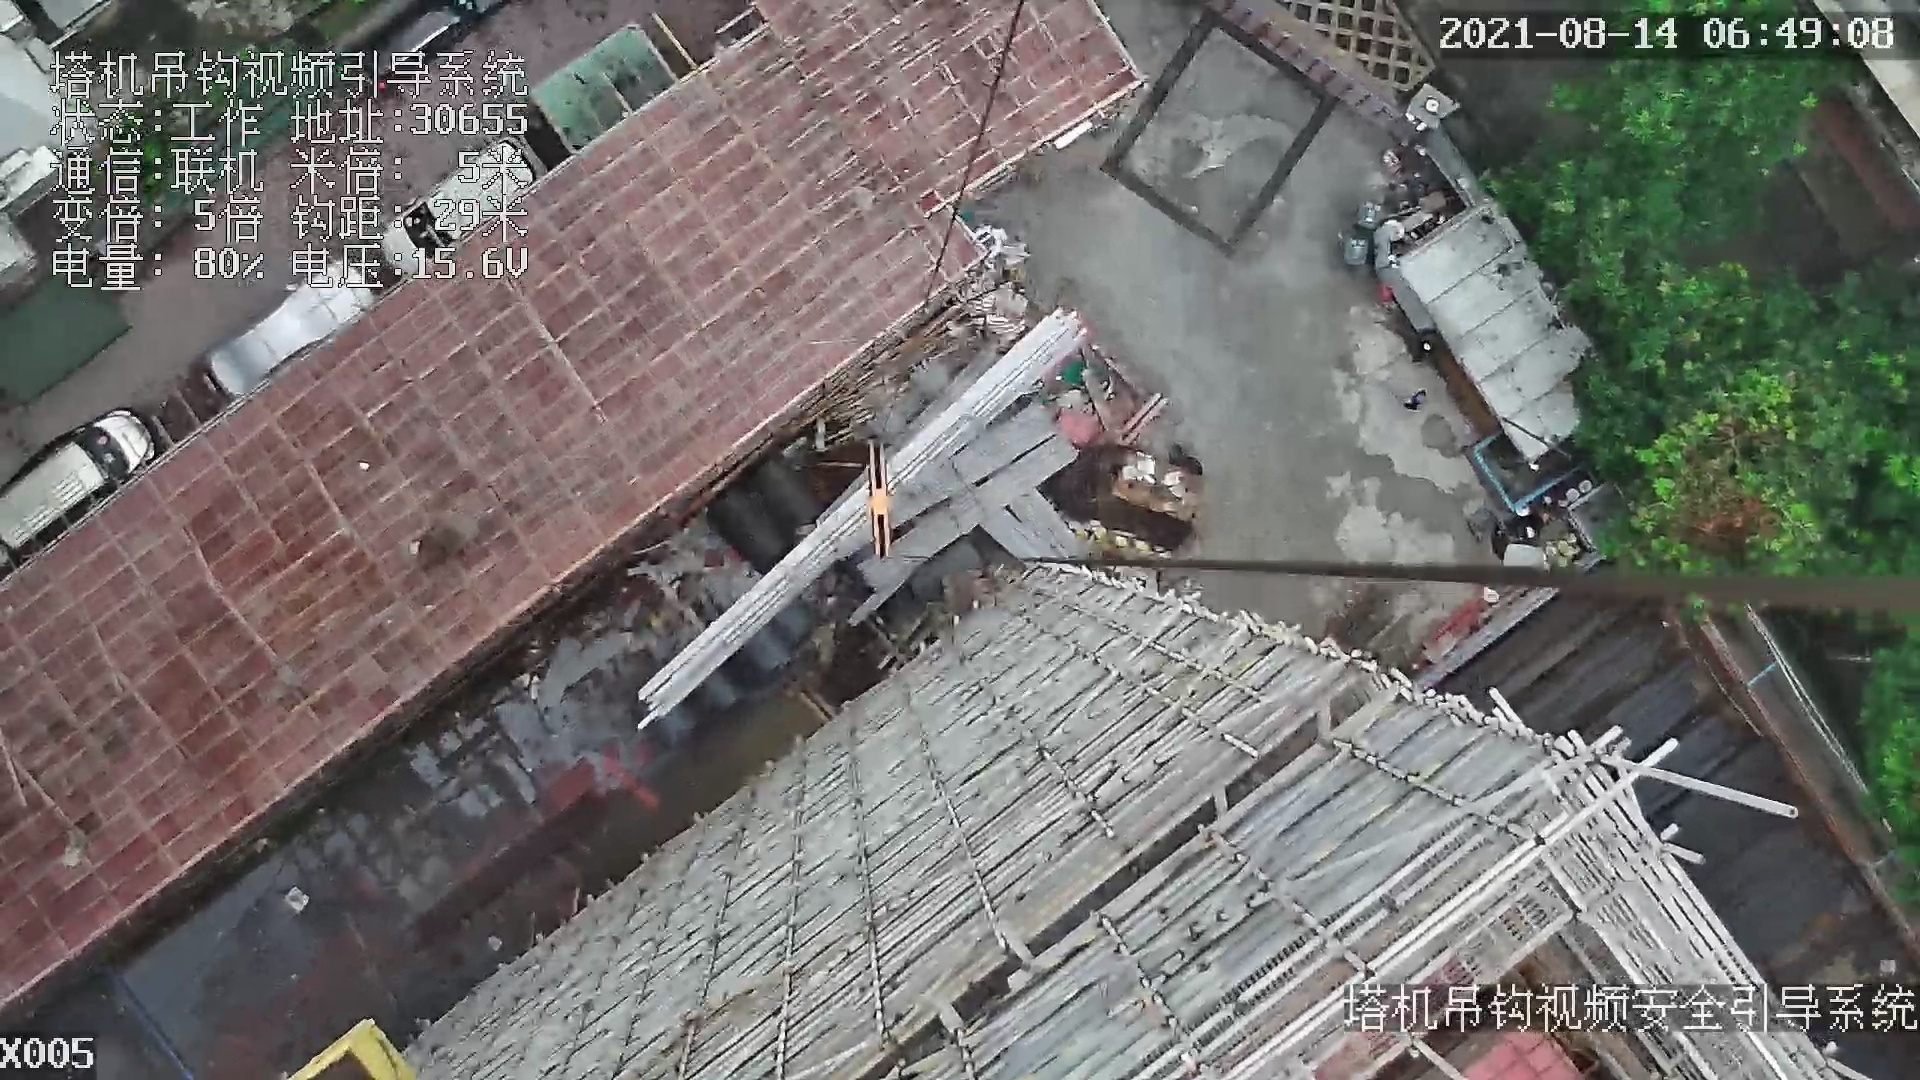hook: (862, 437, 900, 562)
hopper: (1466, 423, 1591, 524)
person: (1404, 379, 1432, 417)
